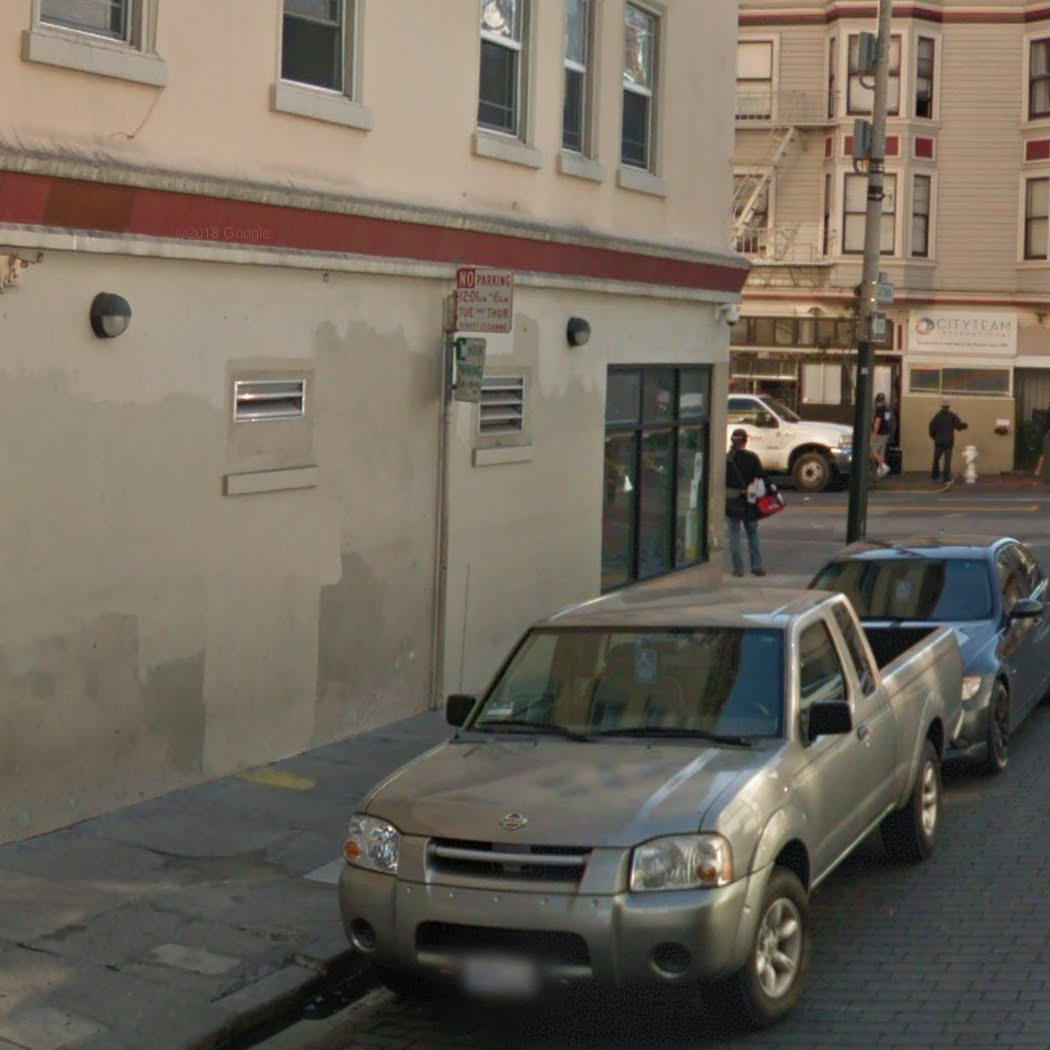1 Hour Parking: (453, 337, 486, 403)
No Parking: (454, 266, 514, 333)
